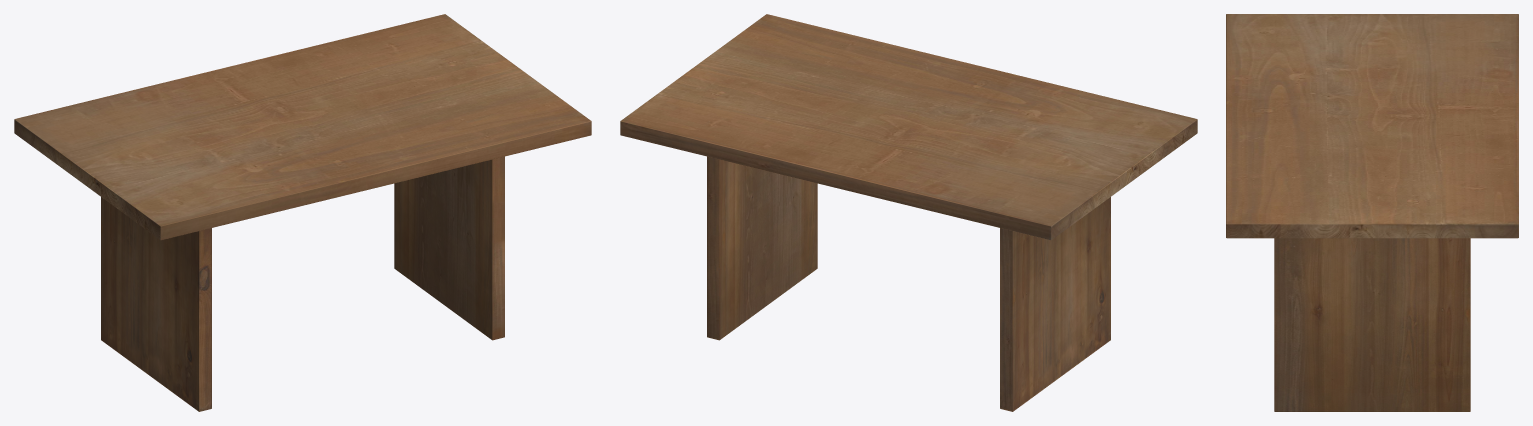
Rendered from table_B07B7BJK89.glb.
The picture shows the model from 3 angles, left to right: view 1: azimuth 30°, elevation 25°; view 2: azimuth 150°, elevation 25°; view 3: azimuth 270°, elevation 25°; orthographic projection.
Visible parts, largest first — view 1: RootNode; view 2: RootNode; view 3: RootNode.
Part boxes in pixels (x1,y1,x2,y2): RootNode: [14, 14, 591, 411]; RootNode: [620, 14, 1197, 411]; RootNode: [1226, 14, 1518, 411].
Bounding box in the file's own units: 1.61 × 0.7798 × 0.9465.
1 material, 1 textured.
